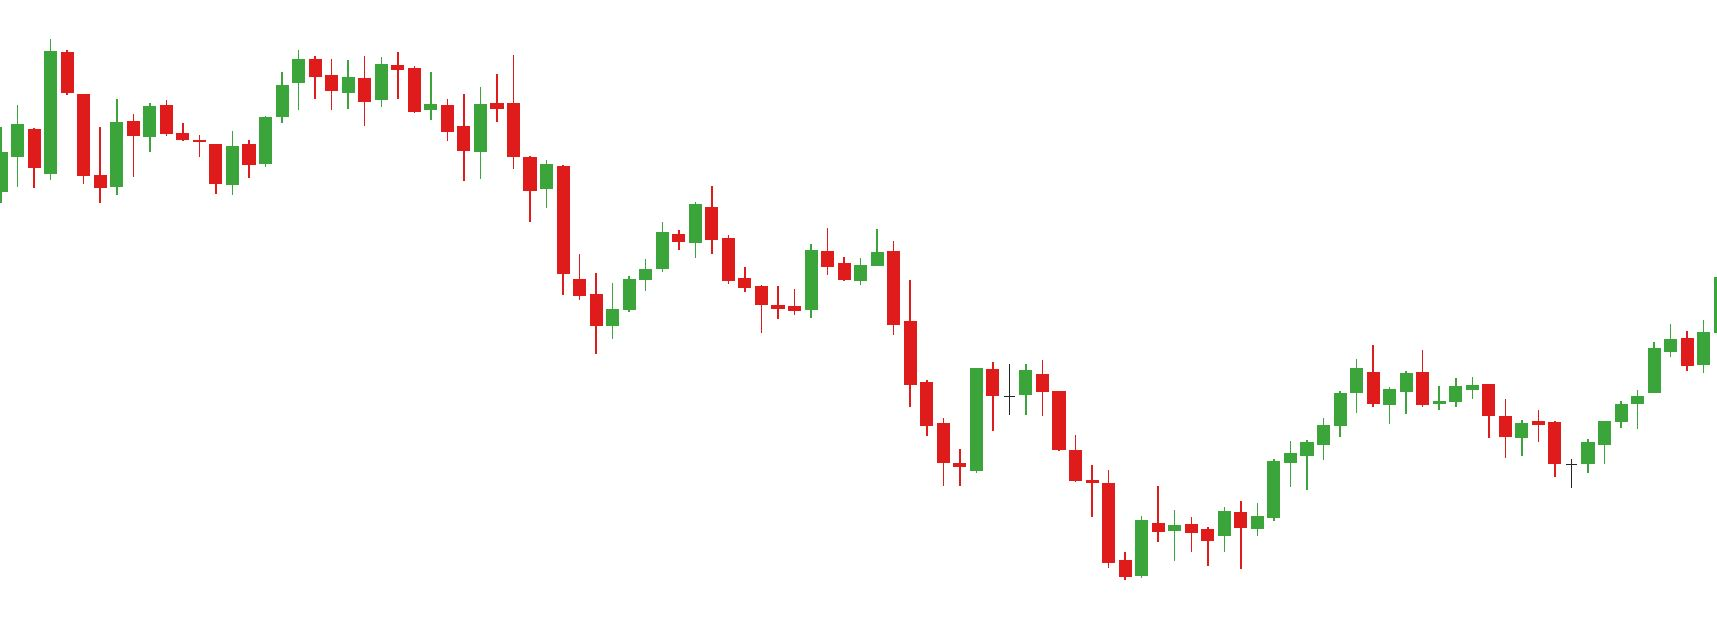sell: (425, 57, 521, 151)
